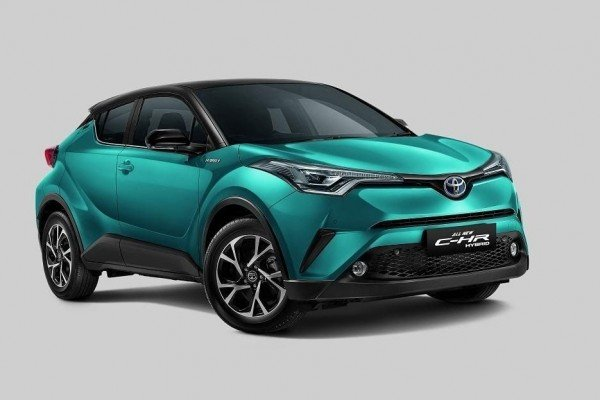mobil: (27, 74, 546, 334)
